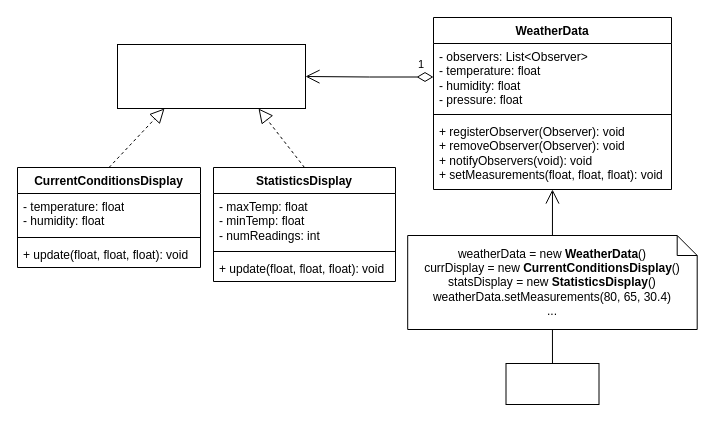
The diagram is 715 pixels wide and 422 high, and some of its shapes have lost their labels. The centre of each missing label's shape, as x and y in pixels:
<<Interface>> Observer + update(float, float, float): void: point 211,76
Client: point 552,383
